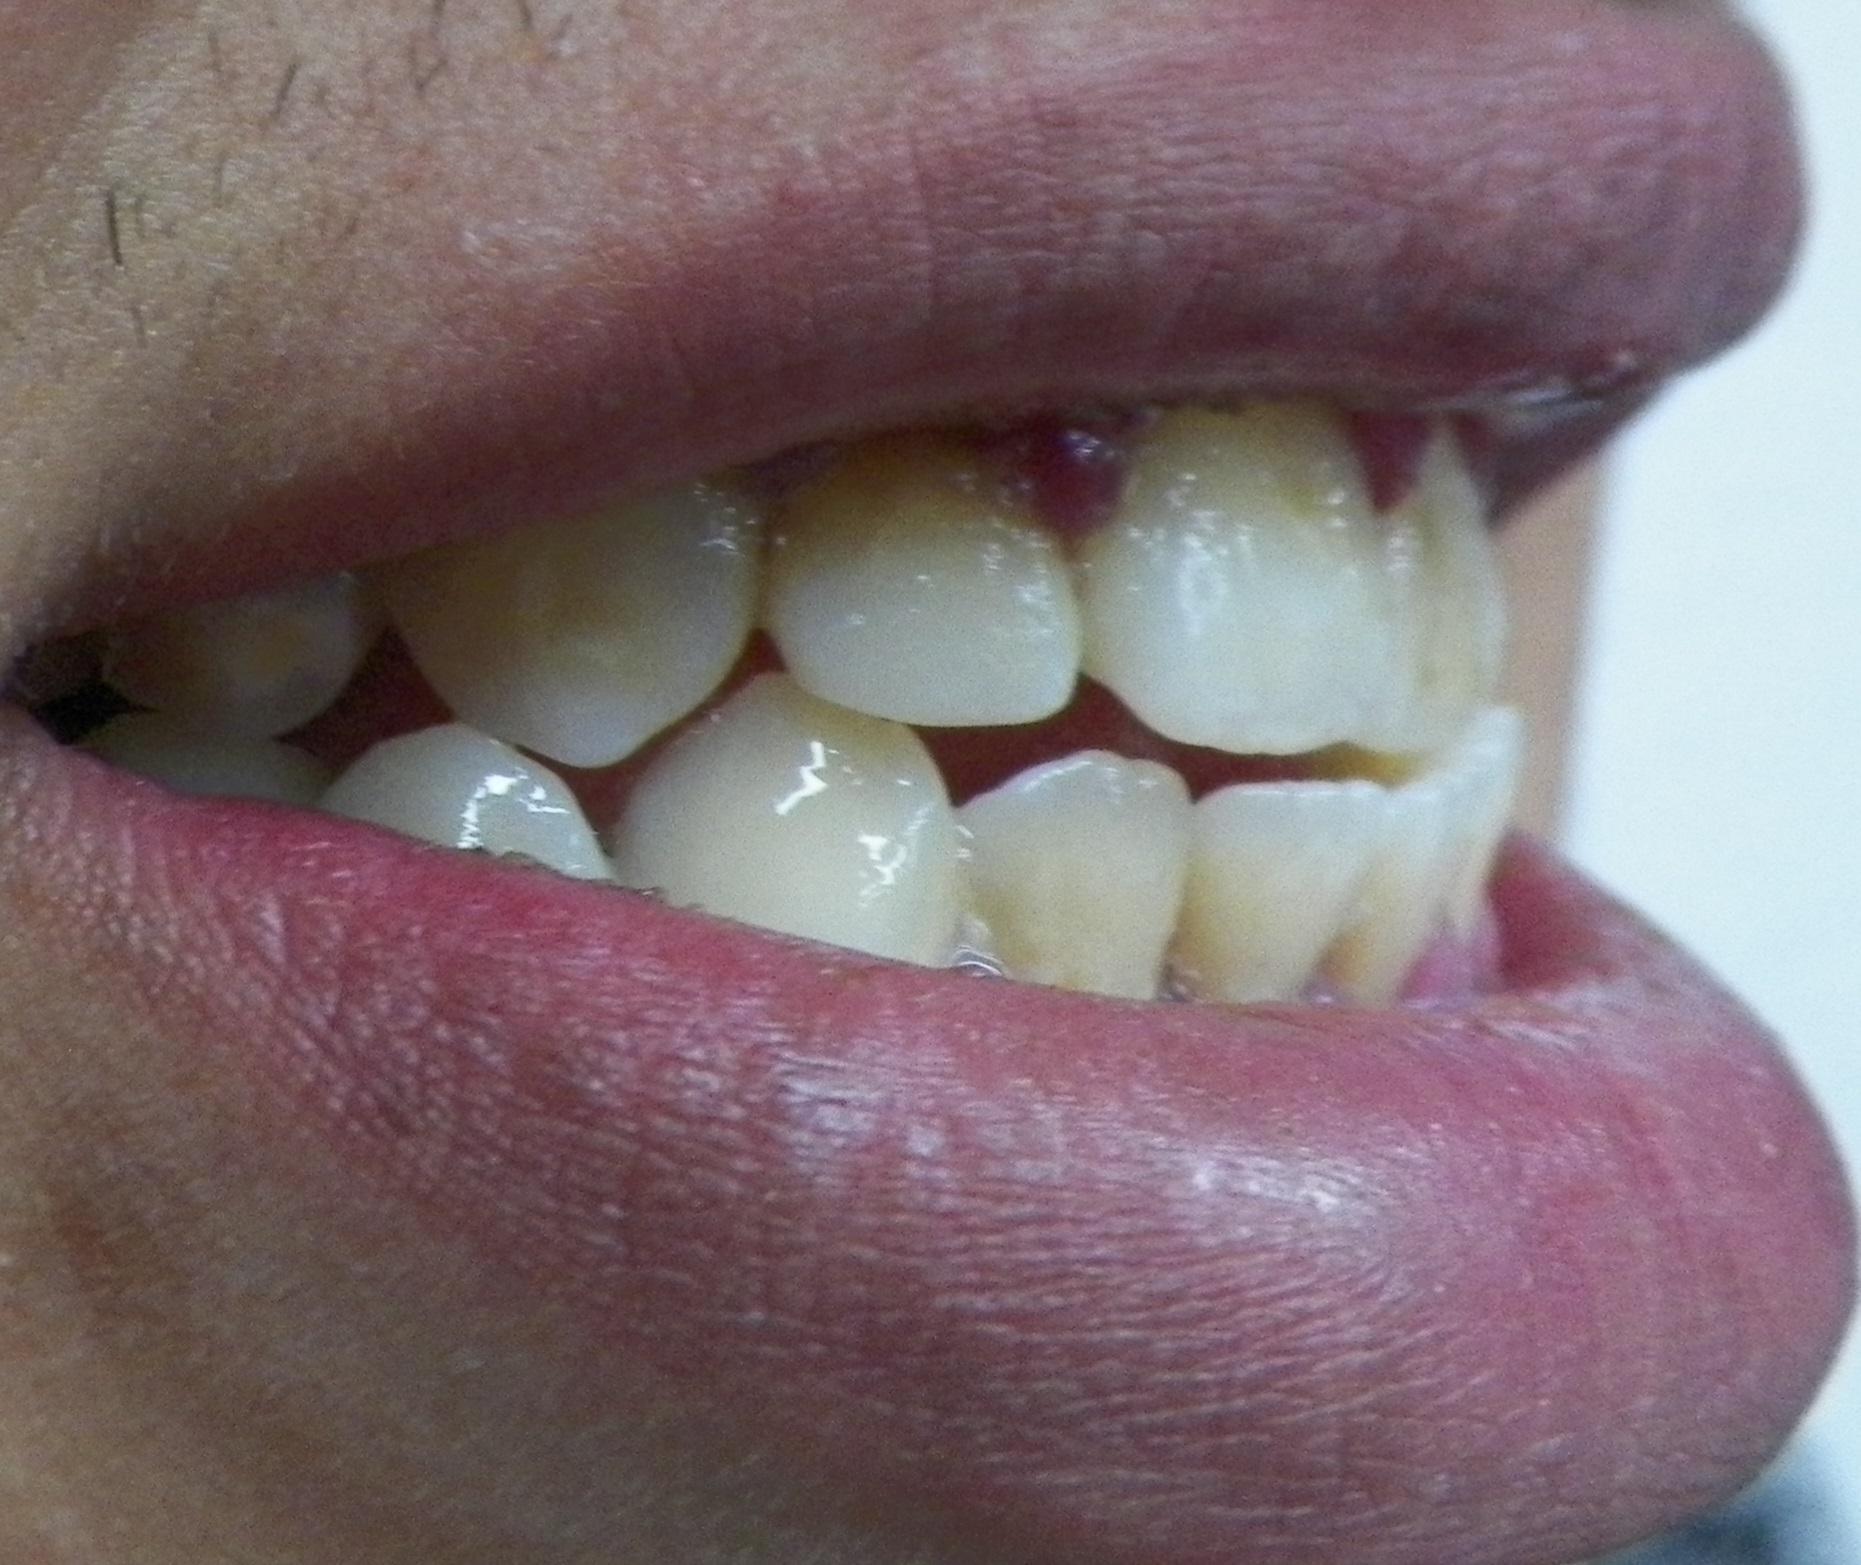boca: (132, 411, 1527, 1018)
